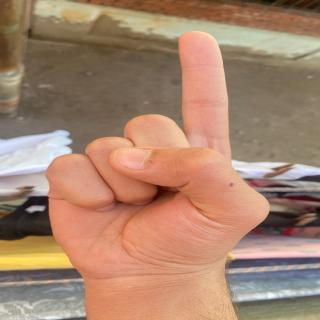BAA: (36, 25, 282, 284)
